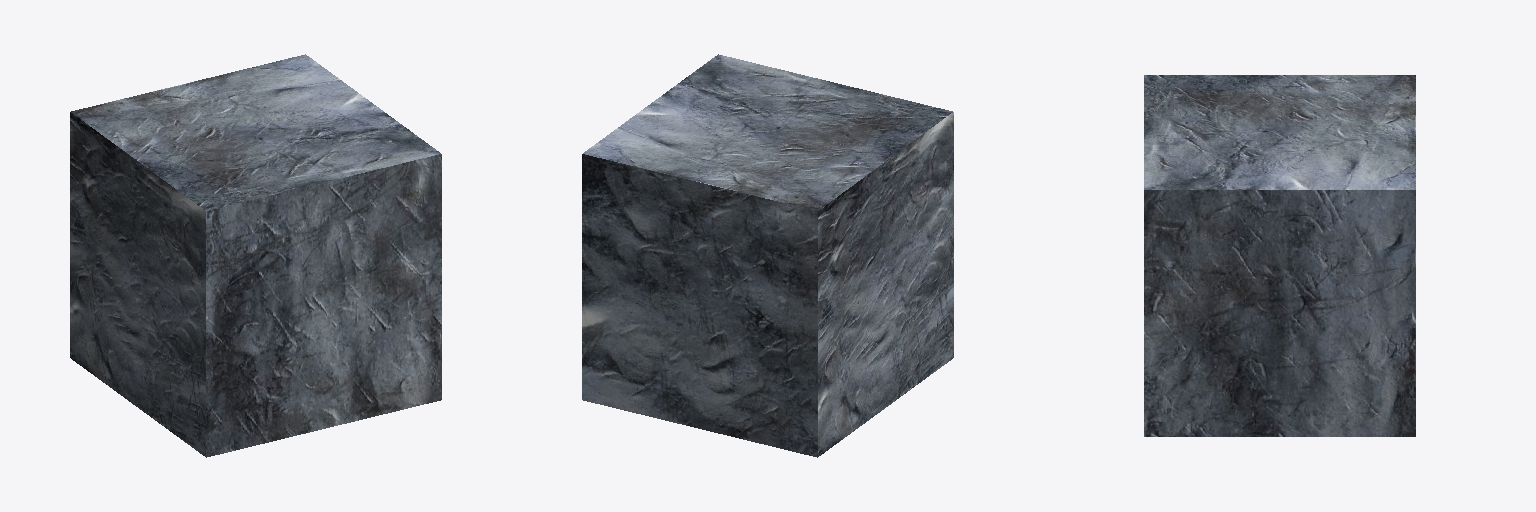
3 renders of one model, left to right at view 1: azimuth 30°, elevation 25°; view 2: azimuth 150°, elevation 25°; view 3: azimuth 270°, elevation 25°, orthographic.
Visible parts, largest first — view 1: Cube; view 2: Cube; view 3: Cube.
Boxes of the visible parts, box(x1,y1,x2,y2) form: Cube: box(70, 54, 441, 457); Cube: box(582, 54, 953, 457); Cube: box(1144, 75, 1415, 436).
Size of the model in its own units: 2 by 2 by 2.
1 materials, 1 textured.